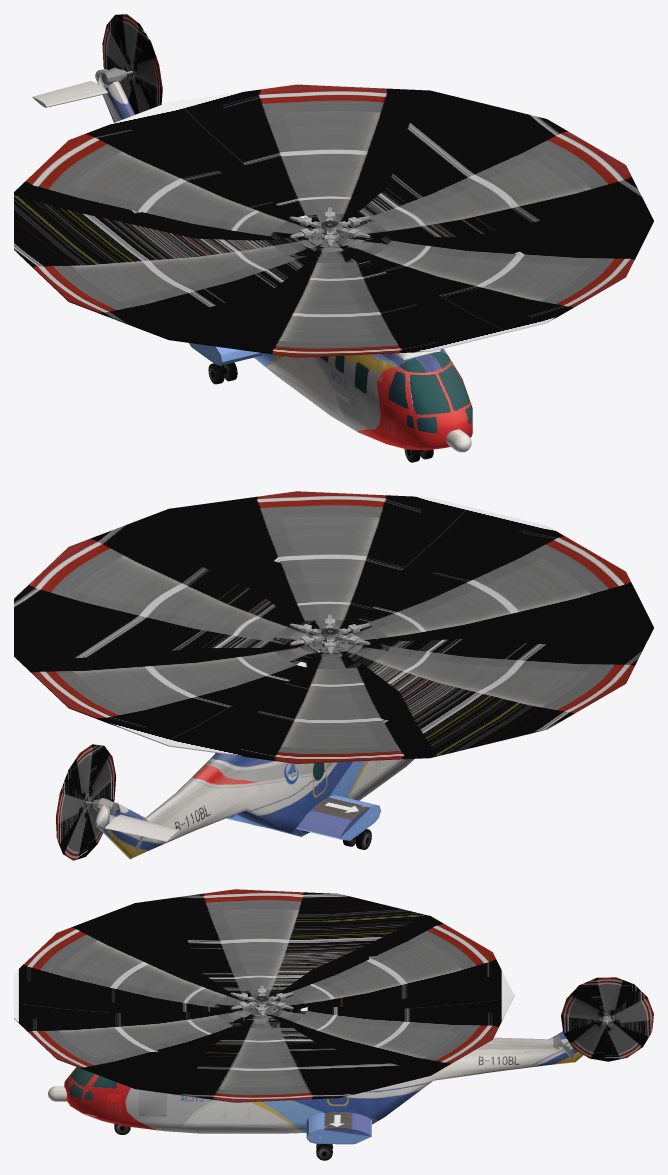
3 views of the same model, one above another, from view 1: azimuth 30°, elevation 25°; view 2: azimuth 150°, elevation 25°; view 3: azimuth 270°, elevation 25° (orthographic). The views are drawn at different scales.
Visible parts, largest first — view 1: ac313, AC313_xuying_hou_1; view 2: ac313, AC313_xuying_hou_1; view 3: ac313, AC313_xuying_hou_1.
Part boxes in pixels (x1,y1,x2,y2): ac313: (14,67,653,462); AC313_xuying_hou_1: (102,14,162,114); ac313: (14,491,653,859); AC313_xuying_hou_1: (56,744,115,860); ac313: (14,889,611,1160); AC313_xuying_hou_1: (561,977,653,1061).
Size of the model in its own units: 1823 by 2318 by 652.
2 materials, 2 textured.
